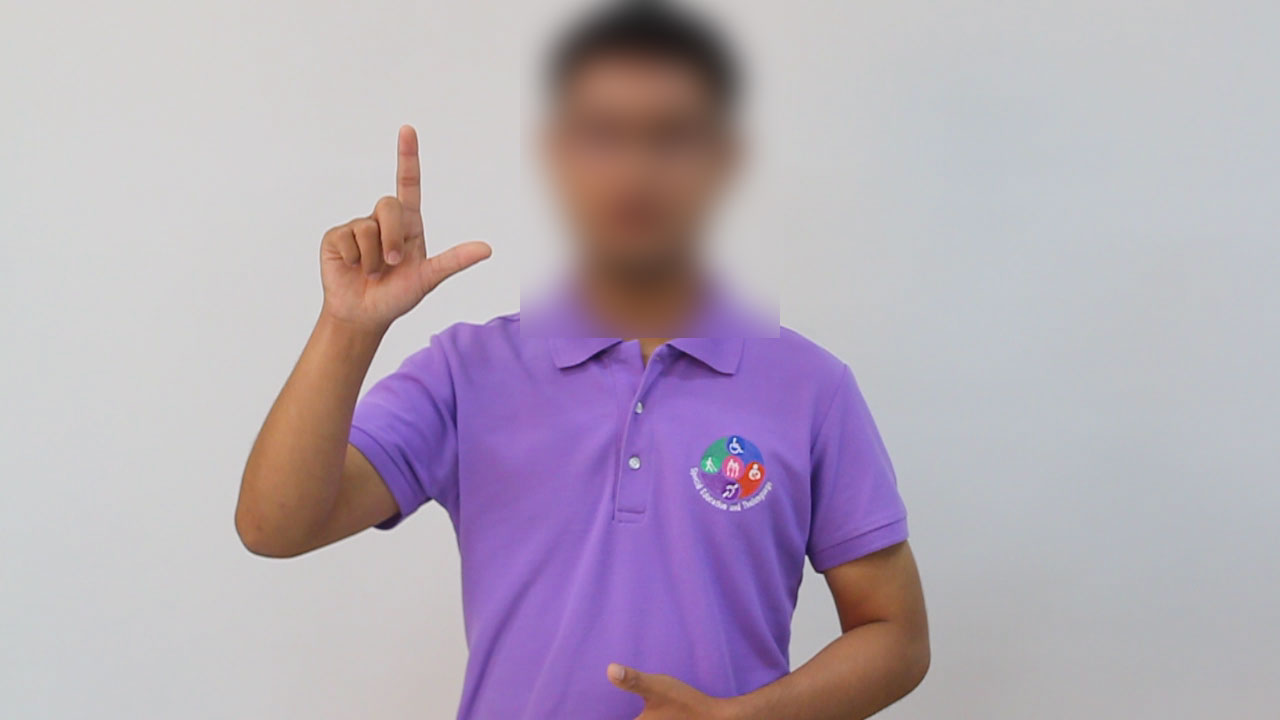lor: (299, 112, 499, 351)
